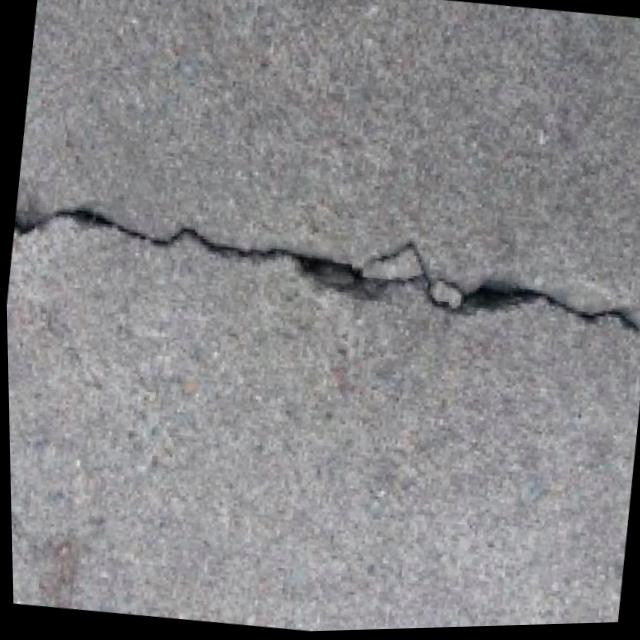Crack: (3, 153, 640, 385)
